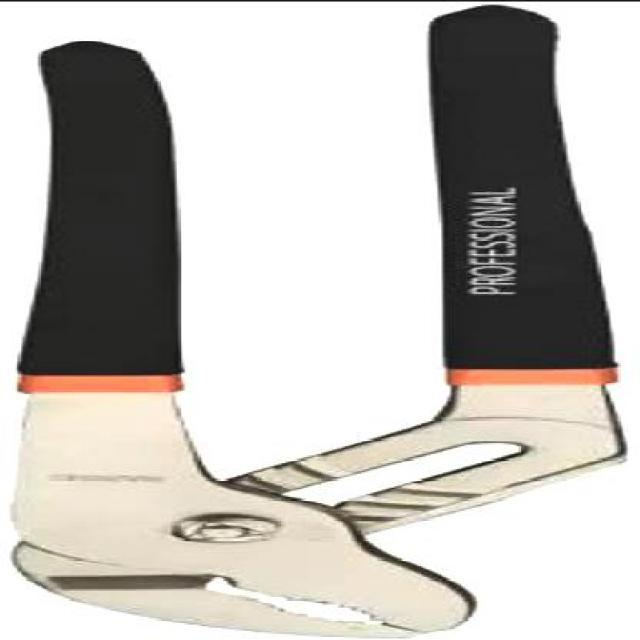pliers: (10, 7, 622, 635)
